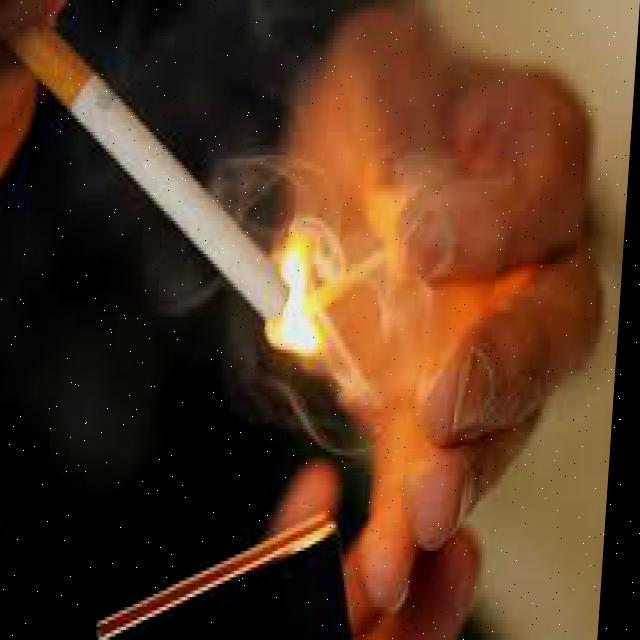Fire: (252, 221, 342, 363)
